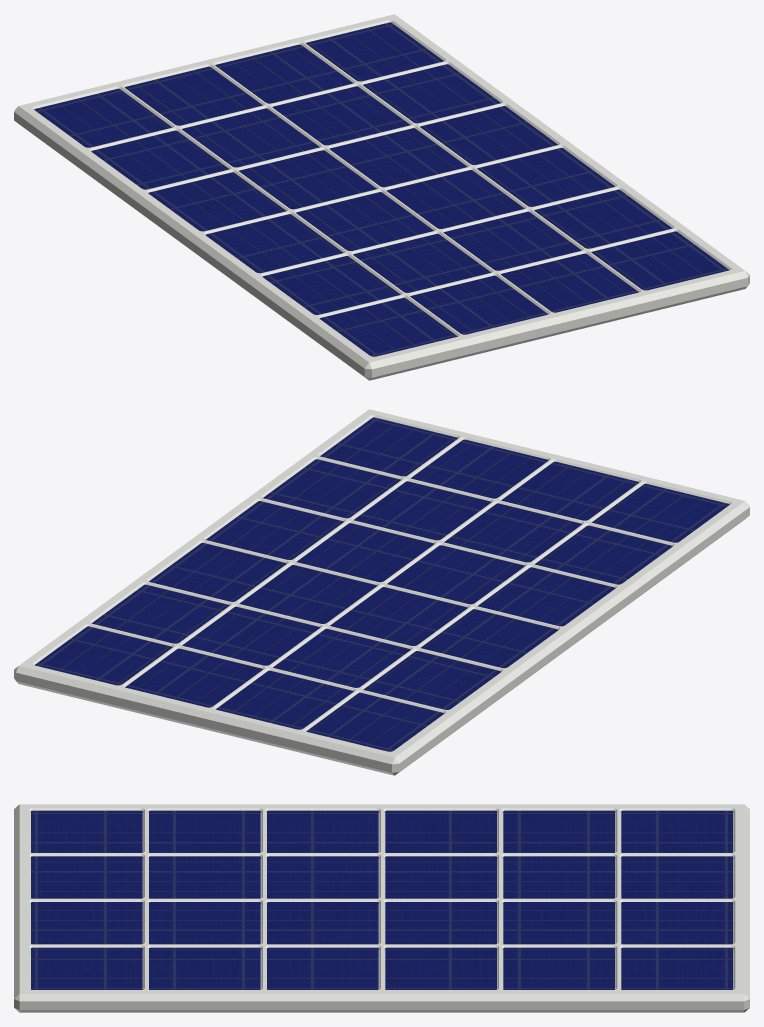
Rendered from ax_power_04_conformal_solar_m.glb.
3 renders of one model, top to bottom at view 1: azimuth 30°, elevation 25°; view 2: azimuth 150°, elevation 25°; view 3: azimuth 270°, elevation 25°, orthographic. The views are drawn at different scales.
Visible parts, largest first — view 1: solar_cells, skin_panel; view 2: solar_cells, skin_panel; view 3: solar_cells, skin_panel.
Boxes of the visible parts, x1,y1,x2,y2 form: solar_cells: [34, 22, 728, 356]; skin_panel: [14, 14, 749, 380]; solar_cells: [35, 417, 729, 751]; skin_panel: [14, 409, 749, 775]; solar_cells: [31, 810, 732, 989]; skin_panel: [14, 804, 749, 1012].
Size of the model in its own units: 1 by 0.045 by 1.6.
2 materials, 1 textured.
